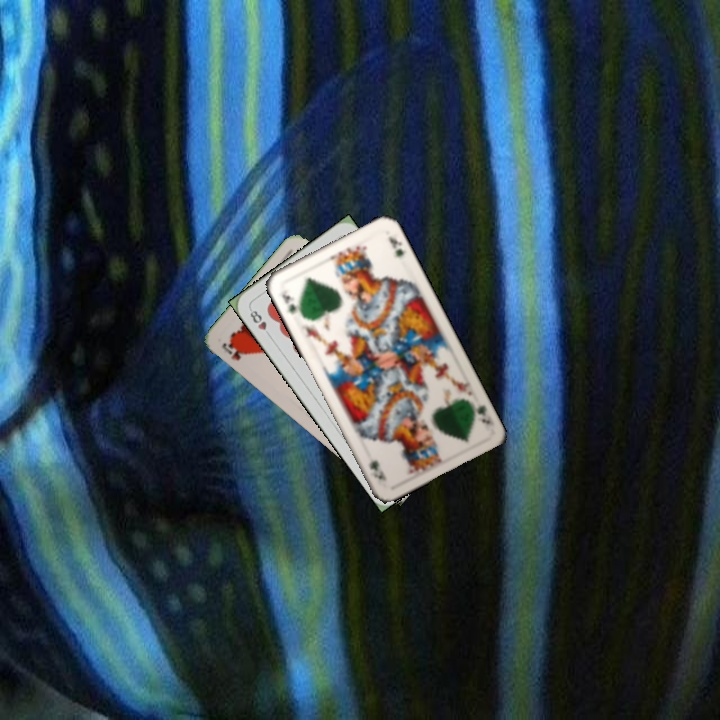GK: (278, 286, 305, 318), (465, 398, 493, 427)
H8: (246, 304, 274, 340)
HO: (217, 337, 249, 363)
